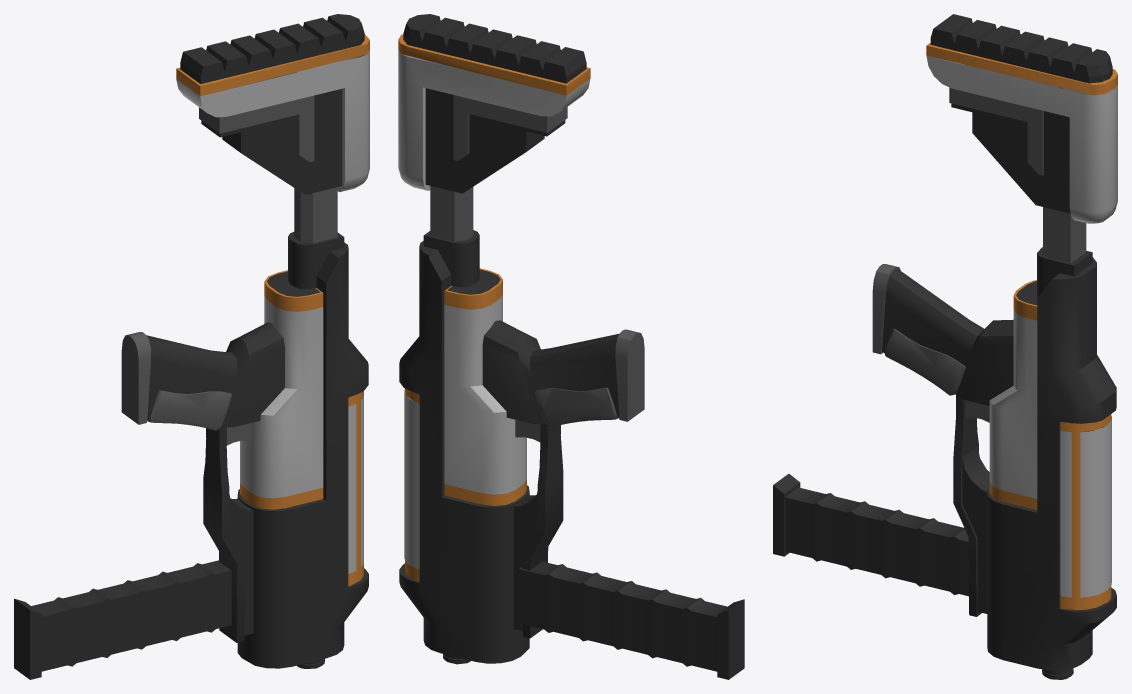
The model's file is qg-smg-1-lod1.glb.
The picture shows the model from 3 angles, left to right: view 1: azimuth 30°, elevation 25°; view 2: azimuth 150°, elevation 25°; view 3: azimuth 330°, elevation 25°; orthographic projection.
Visible parts, largest first — view 1: WeaponMesh_qg-smg-1_SMG_1, WeaponMesh_qg-smg-1_Magazine_SMG; view 2: WeaponMesh_qg-smg-1_SMG_1, WeaponMesh_qg-smg-1_Magazine_SMG; view 3: WeaponMesh_qg-smg-1_SMG_1, WeaponMesh_qg-smg-1_Magazine_SMG.
Part boxes in pixels (x1,y1,x2,y2): WeaponMesh_qg-smg-1_SMG_1: [121, 14, 369, 668]; WeaponMesh_qg-smg-1_Magazine_SMG: [14, 560, 231, 679]; WeaponMesh_qg-smg-1_SMG_1: [398, 14, 644, 664]; WeaponMesh_qg-smg-1_Magazine_SMG: [518, 561, 744, 679]; WeaponMesh_qg-smg-1_SMG_1: [872, 14, 1117, 679]; WeaponMesh_qg-smg-1_Magazine_SMG: [773, 473, 968, 596].
Size of the model in its own units: 0.4388 by 0.78 by 0.0847.
